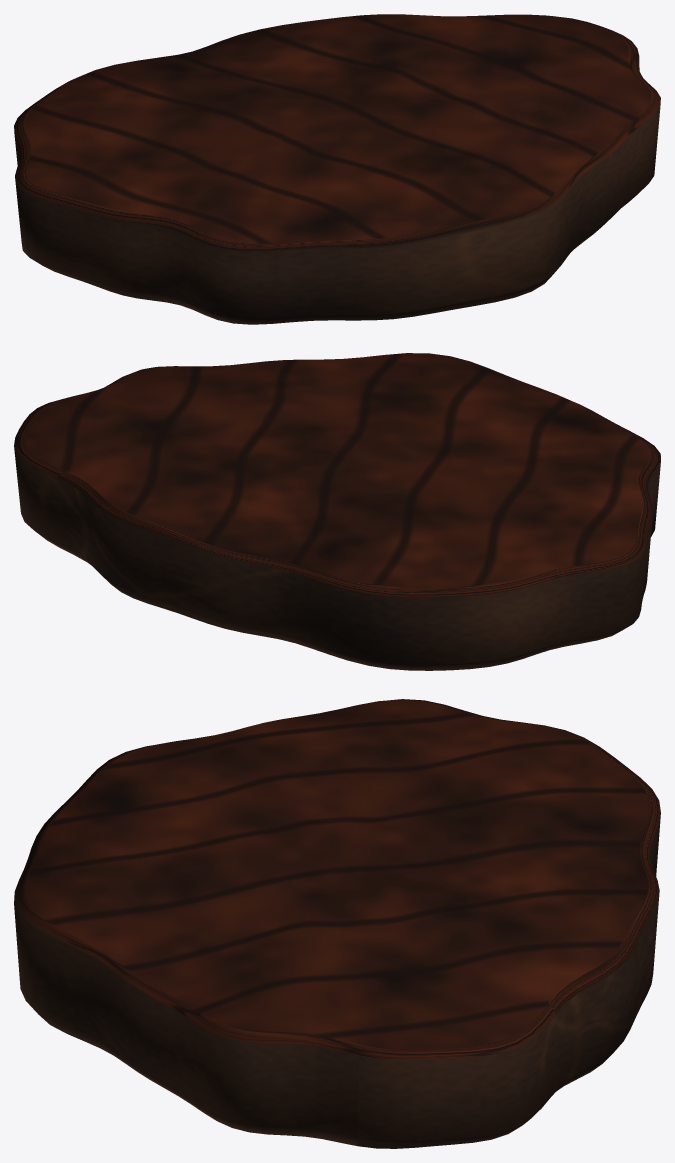
File: RibeyeSteak_Cooked_180x135x28mm.fbx
The picture shows the model from 3 angles, top to bottom: view 1: azimuth 30°, elevation 25°; view 2: azimuth 150°, elevation 25°; view 3: azimuth 270°, elevation 25°; orthographic projection. The views are drawn at different scales.
Parts seen in each view (by area): view 1: RibeyeSteak_Cooked; view 2: RibeyeSteak_Cooked; view 3: RibeyeSteak_Cooked.
Boxes of the visible parts, box(x1,y1,x2,y2) form: RibeyeSteak_Cooked: box(14, 14, 660, 324); RibeyeSteak_Cooked: box(14, 353, 660, 670); RibeyeSteak_Cooked: box(14, 699, 660, 1148).
Size of the model in its own units: 0.18 by 0.028 by 0.135.
1 material, 1 textured.
